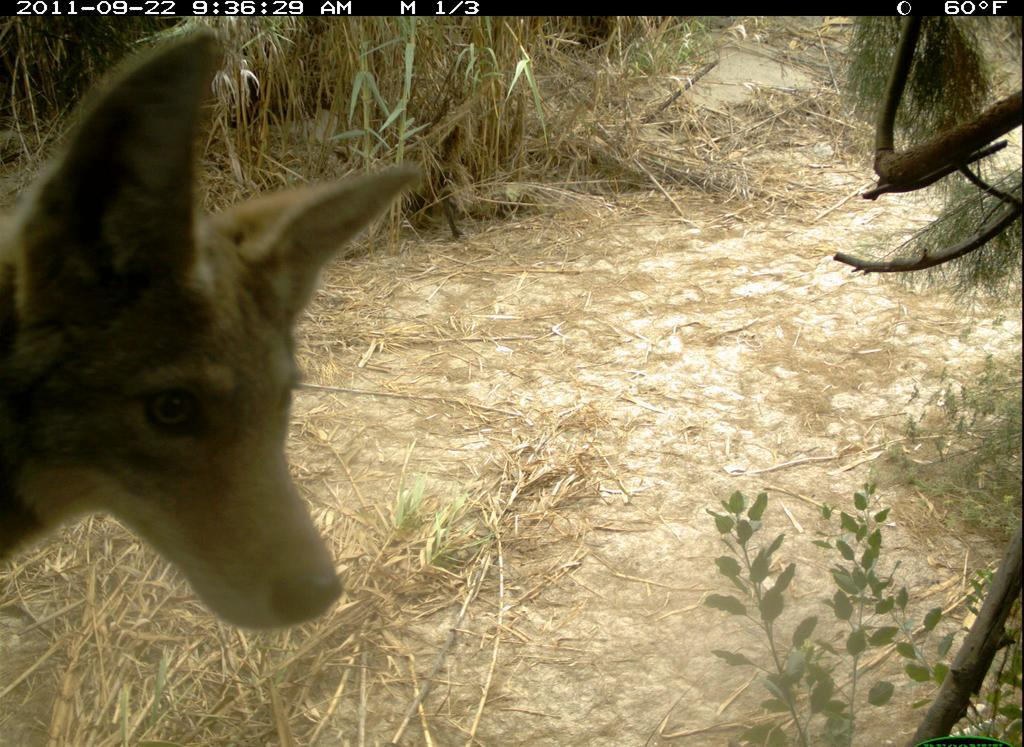coyote: (6, 26, 441, 667)
